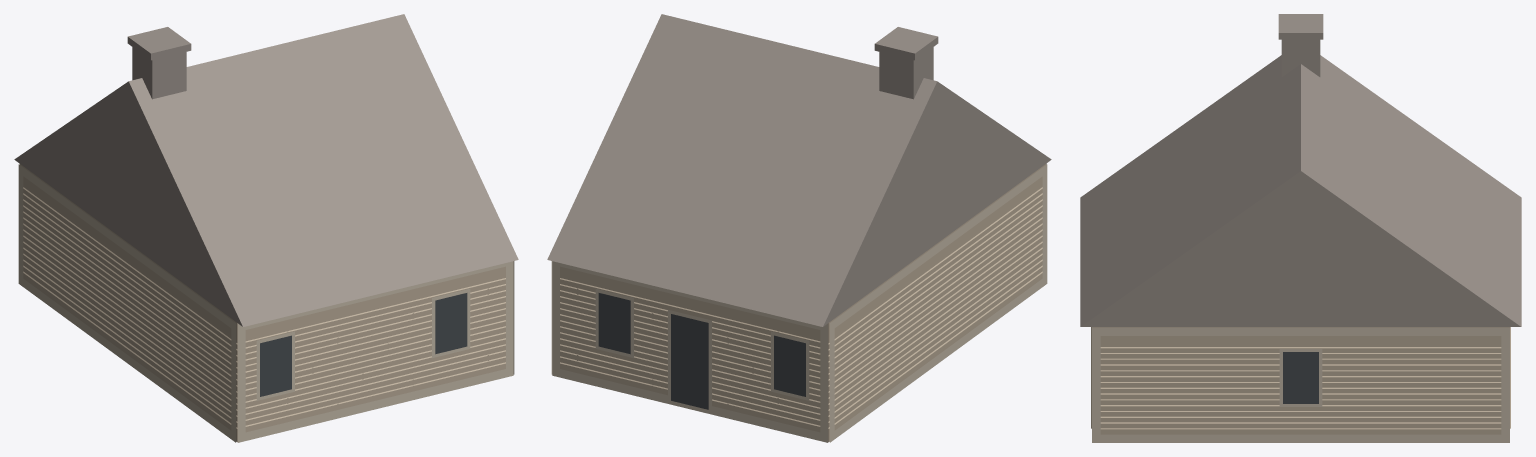
The model's file is recon_1835_north_d5_026__inferred_1835.glb.
3 renders of one model, left to right at view 1: azimuth 30°, elevation 25°; view 2: azimuth 150°, elevation 25°; view 3: azimuth 270°, elevation 25°, orthographic. The views are drawn at different scales.
Visible parts, largest first — view 1: recon_1835_north_d5_026__inferred_1835; view 2: recon_1835_north_d5_026__inferred_1835; view 3: recon_1835_north_d5_026__inferred_1835.
Part boxes in pixels (x1,y1,x2,y2): recon_1835_north_d5_026__inferred_1835: [14, 14, 518, 442]; recon_1835_north_d5_026__inferred_1835: [547, 14, 1051, 442]; recon_1835_north_d5_026__inferred_1835: [1080, 14, 1521, 442].
Size of the model in its own units: 6.79 by 7.33 by 9.64.
